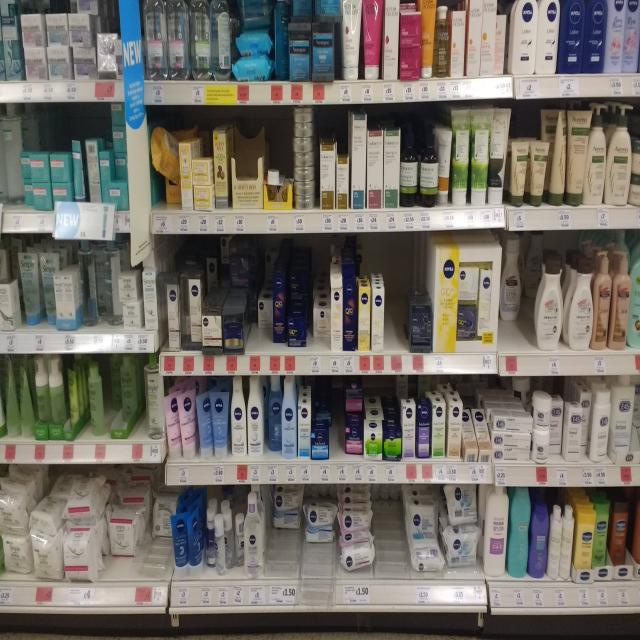unorganised: (19, 12, 99, 80), (164, 387, 213, 464), (79, 243, 118, 330), (204, 496, 243, 579), (18, 250, 55, 332), (3, 359, 34, 438), (146, 122, 179, 193), (169, 507, 202, 576), (582, 391, 612, 464), (501, 236, 524, 327), (235, 29, 272, 85), (492, 415, 533, 465), (549, 109, 570, 204), (271, 296, 305, 353), (84, 360, 109, 436), (210, 1, 233, 81), (443, 485, 481, 530), (508, 138, 532, 208), (105, 514, 137, 565), (116, 355, 139, 422), (462, 407, 490, 462), (66, 138, 88, 207), (411, 528, 442, 576), (340, 527, 374, 570), (263, 376, 281, 453), (118, 274, 141, 330), (305, 503, 335, 545), (66, 365, 85, 428), (271, 493, 301, 531), (150, 499, 174, 539), (312, 304, 332, 346), (496, 15, 509, 79), (345, 416, 364, 459), (551, 400, 563, 463), (254, 297, 272, 328)
